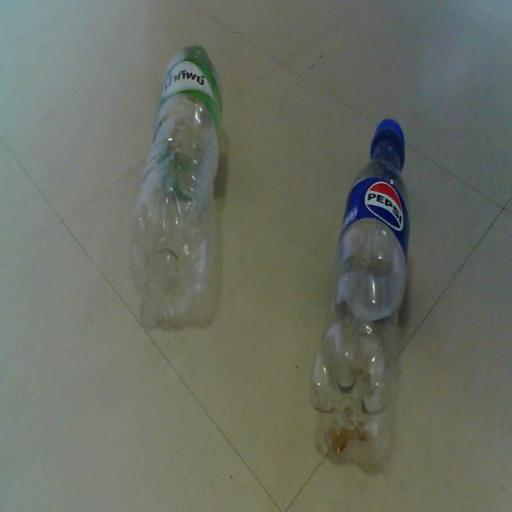bottle: (310, 122, 409, 472), (130, 45, 224, 331)
